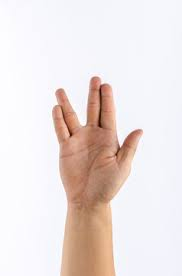LiveLong: (51, 75, 143, 206)
